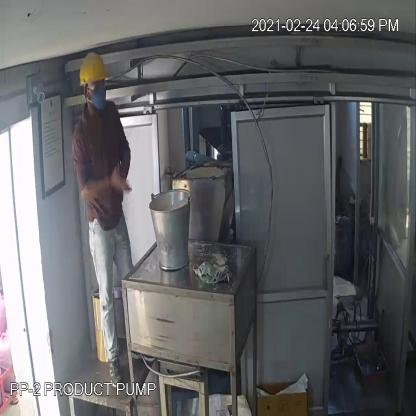helmet: (78, 50, 112, 103)
